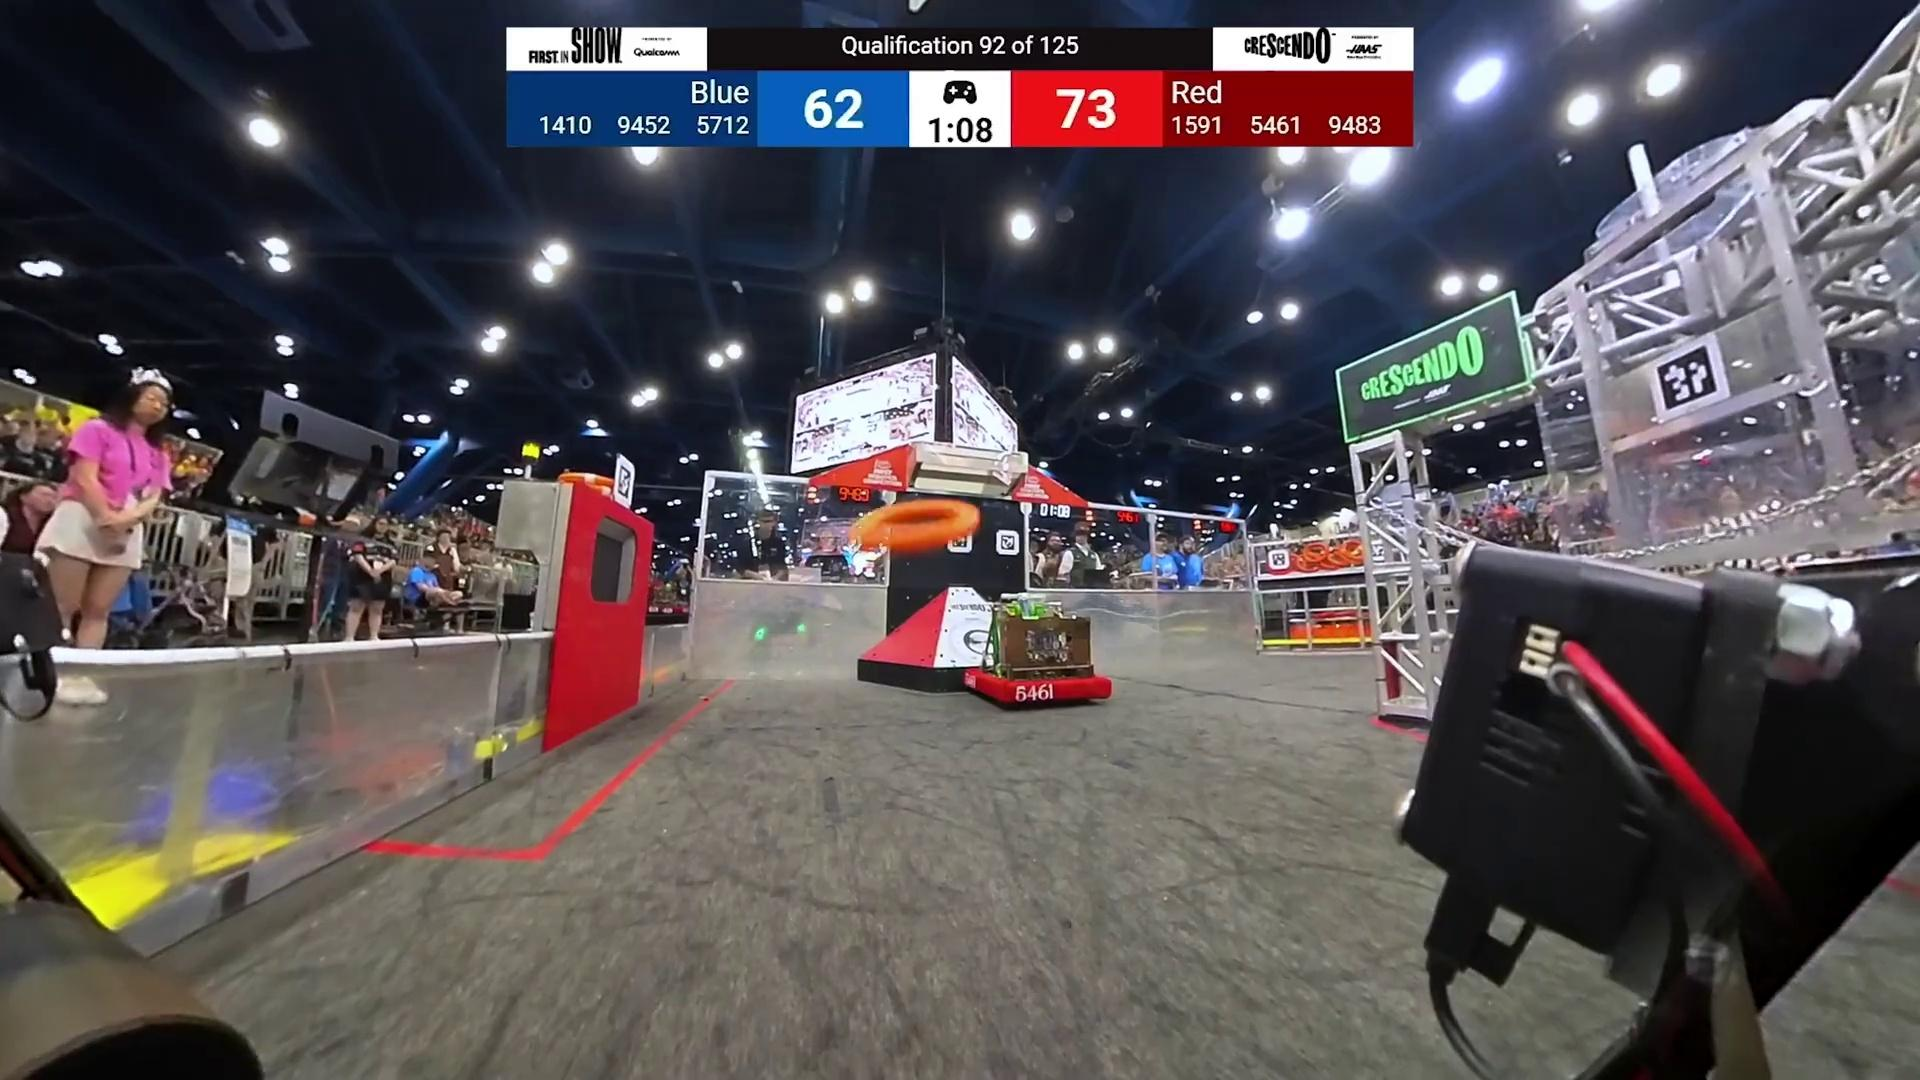robot: (964, 593, 1112, 708)
